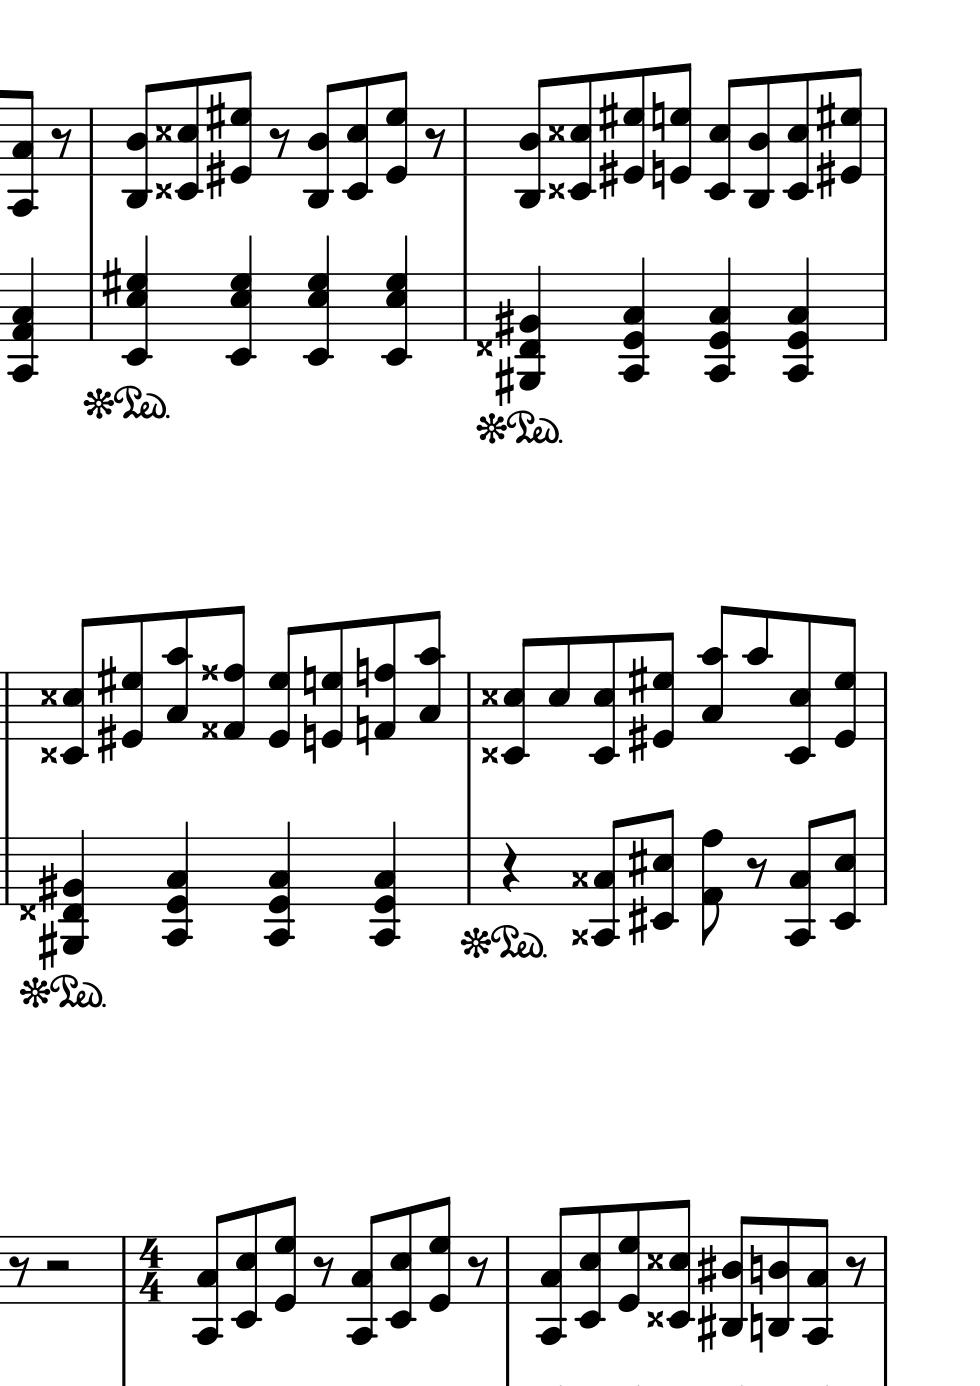4: (136, 1235, 167, 1270), (137, 1270, 165, 1303)
4_th: (119, 232, 155, 368), (302, 232, 335, 371), (514, 264, 548, 393), (161, 819, 194, 949), (263, 819, 296, 949), (382, 229, 412, 373), (703, 256, 736, 383), (369, 818, 401, 948), (782, 255, 813, 384), (58, 831, 91, 957), (227, 231, 256, 369), (619, 257, 649, 383), (8, 257, 38, 381)
8_-2_5: (56, 615, 95, 765), (785, 611, 819, 765), (501, 636, 540, 767), (706, 76, 740, 201), (230, 1205, 264, 1330), (384, 1205, 418, 1330), (575, 1204, 609, 1329), (588, 632, 619, 765), (343, 77, 374, 201), (832, 808, 863, 930), (174, 77, 205, 201), (650, 806, 681, 930), (785, 70, 813, 201), (568, 72, 596, 203), (668, 1198, 696, 1329)
8_-3_4: (512, 76, 548, 211), (743, 75, 778, 210), (122, 83, 158, 208), (303, 82, 339, 207)
8_-4_3: (533, 1205, 573, 1344), (785, 815, 822, 947), (193, 1212, 229, 1344), (348, 1211, 384, 1343), (6, 89, 41, 217), (591, 815, 625, 947)
8_0_7: (118, 613, 147, 750), (268, 625, 300, 749), (833, 615, 859, 751), (837, 62, 864, 187), (272, 1195, 300, 1314), (622, 66, 649, 187), (669, 62, 696, 186), (426, 1194, 454, 1313), (649, 631, 677, 749), (321, 618, 346, 749), (383, 68, 410, 182), (229, 70, 256, 185), (617, 1199, 642, 1314)
8_10: (742, 606, 770, 742)
8_1_8: (222, 604, 249, 741), (370, 615, 399, 741), (700, 827, 727, 948)
8_3_10: (697, 601, 735, 741), (161, 609, 193, 742), (415, 609, 445, 741)
8_5: (546, 634, 571, 743)
DSharp: (545, 121, 568, 145), (570, 925, 592, 948), (153, 177, 174, 201), (645, 1250, 667, 1273), (479, 686, 501, 709), (646, 1309, 668, 1330), (547, 122, 567, 145), (18, 901, 39, 923), (546, 181, 568, 201), (38, 744, 60, 765), (478, 686, 498, 708), (153, 123, 176, 142), (202, 661, 220, 685), (38, 686, 58, 707), (38, 743, 57, 766), (153, 181, 173, 201), (39, 687, 58, 708), (199, 720, 221, 739), (16, 902, 37, 922), (548, 178, 565, 201), (570, 869, 589, 889), (570, 927, 590, 946), (153, 124, 172, 144), (200, 661, 218, 682), (202, 719, 218, 741), (482, 745, 501, 765), (476, 339, 495, 357), (480, 745, 498, 765)
Natural: (300, 653, 318, 707), (746, 1243, 764, 1296), (353, 645, 370, 699), (649, 90, 666, 143), (301, 712, 318, 765), (354, 705, 370, 758), (650, 150, 666, 201), (748, 1302, 763, 1354)
Rests2: (43, 1257, 73, 1273)
Rests4: (498, 842, 521, 896)
Rests8: (465, 1253, 491, 1289), (311, 1255, 336, 1289), (745, 854, 769, 890), (50, 125, 74, 160), (423, 125, 448, 160), (268, 125, 292, 161), (7, 1255, 32, 1287), (844, 1255, 868, 1288)
Sharp: (98, 256, 124, 310), (492, 295, 517, 348), (625, 655, 649, 708), (694, 1243, 718, 1296), (94, 654, 118, 708), (36, 860, 60, 911), (625, 837, 648, 889), (204, 90, 226, 143), (813, 91, 836, 144), (626, 712, 648, 765), (596, 91, 618, 143), (597, 150, 618, 201), (813, 150, 835, 201), (205, 150, 225, 201), (627, 896, 647, 947), (696, 1303, 716, 1354), (494, 355, 514, 405), (38, 920, 58, 970), (97, 713, 116, 765)
Single_barline: (876, 274, 893, 341), (115, 1236, 132, 1304), (498, 1236, 515, 1304), (460, 838, 477, 905), (456, 275, 473, 340), (877, 107, 893, 177), (877, 1236, 893, 1304), (83, 109, 99, 175), (457, 109, 473, 175), (461, 673, 477, 739), (83, 274, 98, 341), (877, 672, 892, 739), (877, 838, 892, 905), (1, 838, 15, 903), (1, 673, 14, 740)
TimeSig: (136, 1236, 167, 1304)
